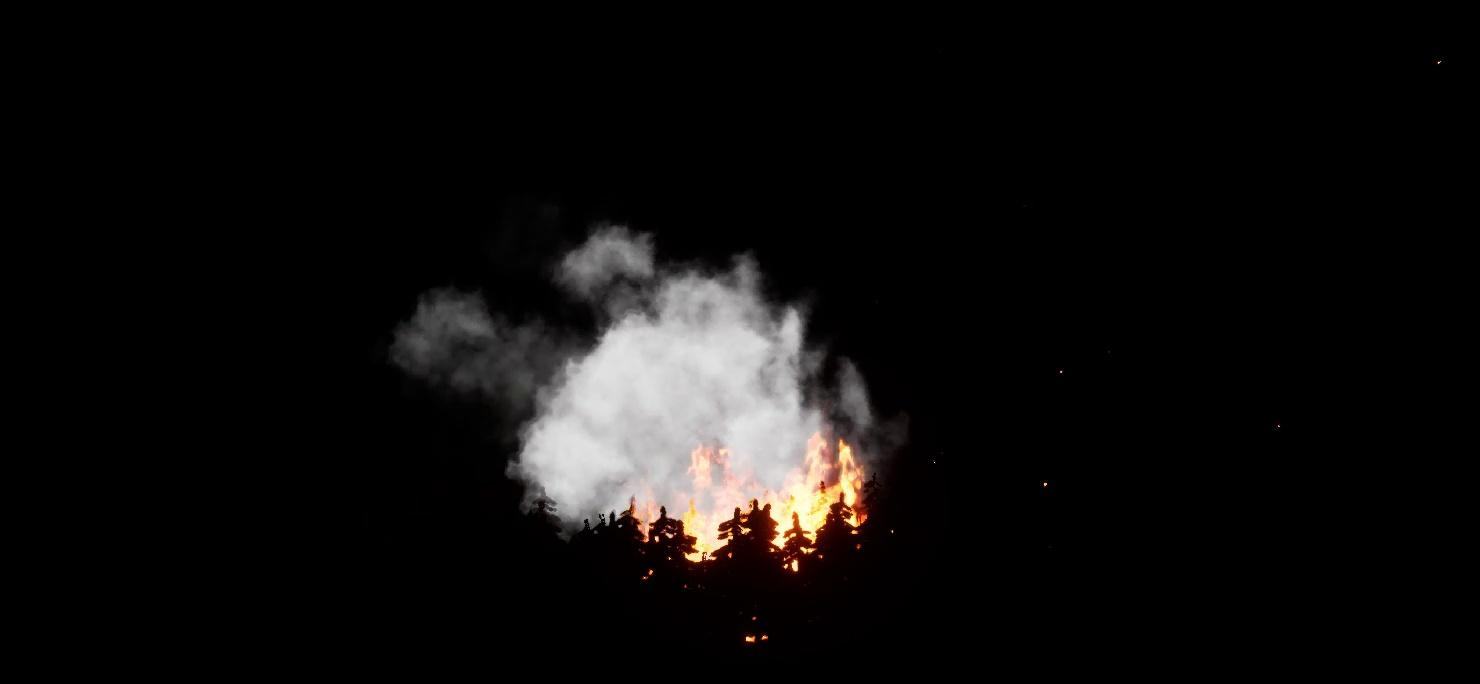fire: (630, 427, 881, 547)
smoke: (396, 222, 873, 522)
